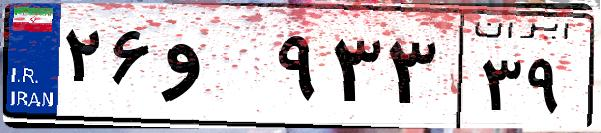2: (57, 26, 110, 100)
3: (385, 28, 445, 110), (330, 28, 385, 110), (475, 38, 525, 113)
6: (110, 28, 158, 98)
9: (270, 28, 330, 110), (525, 38, 570, 115)
و: (158, 20, 270, 120)
